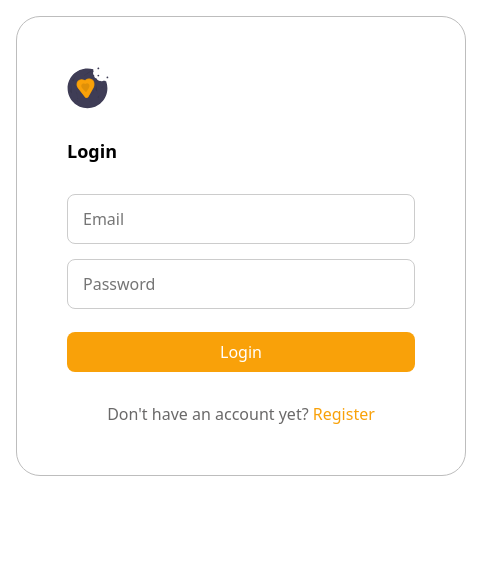
Test: <LoginPage /> › Should display an error message if the login fails
The width and height of the screenshot is (483, 578).
Type "test@test.com" into the field with placeholder "Email".
click(241, 219); type("test@test.com")  # box [67,194,415,244]
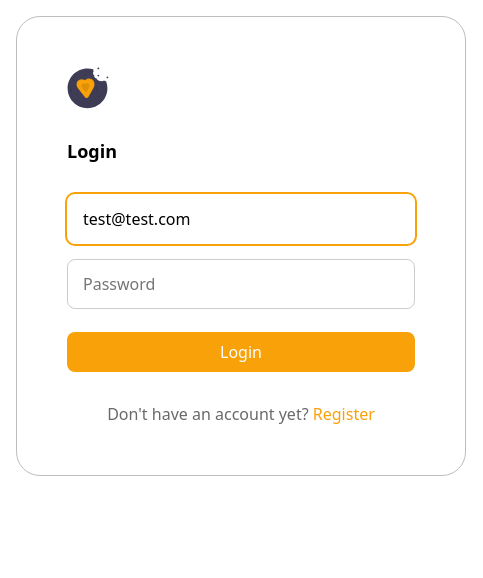
Type "Test1234" into the password field with placeholder "Password".
click(241, 284); type("Test1234")  # box [67,259,415,309]
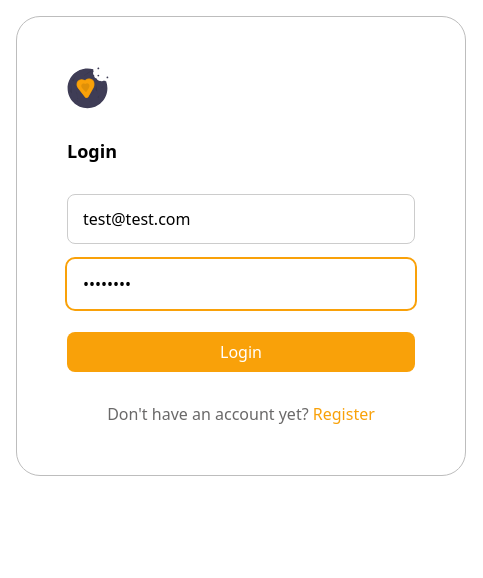
Click the button.
click(241, 352)  # box [67,332,415,372]
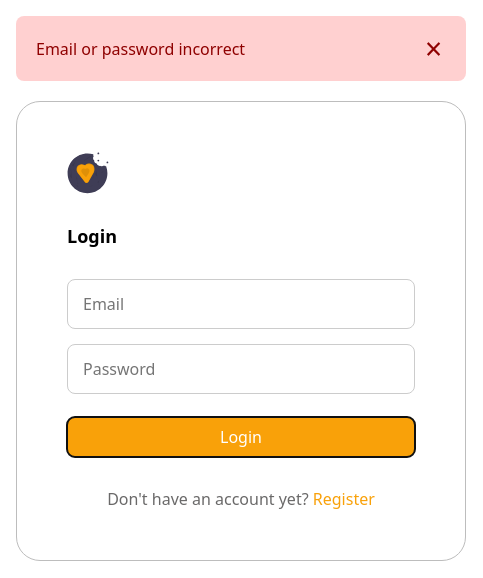
Check: the text "Email or password incorrect" is shown, box [36,38,245,60]
